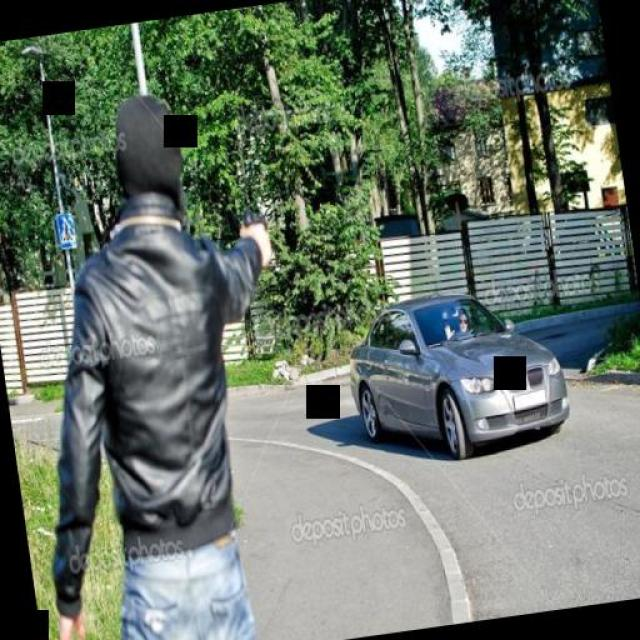gun: (228, 194, 288, 282)
